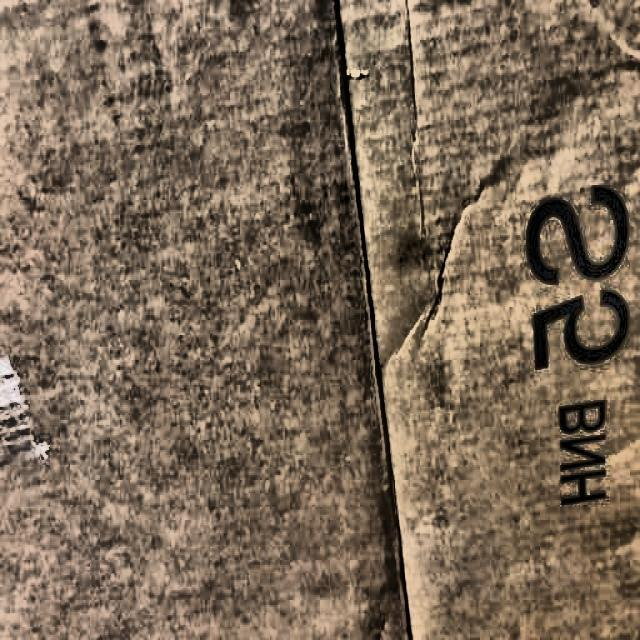cardboard: (0, 2, 416, 640), (332, 2, 638, 640)
